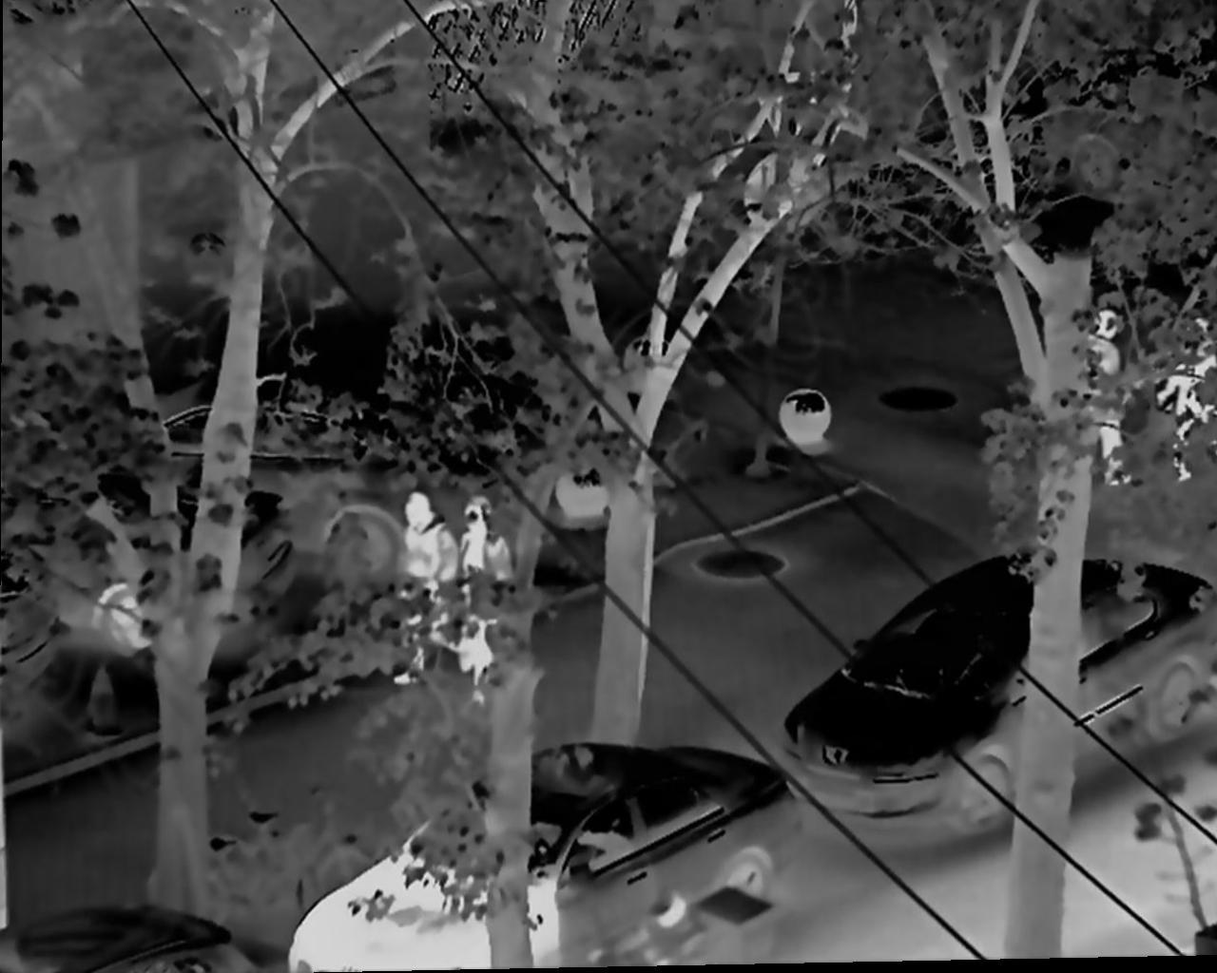person: (386, 491, 464, 686), (454, 496, 515, 690), (1075, 306, 1132, 490), (1153, 316, 1217, 476)
